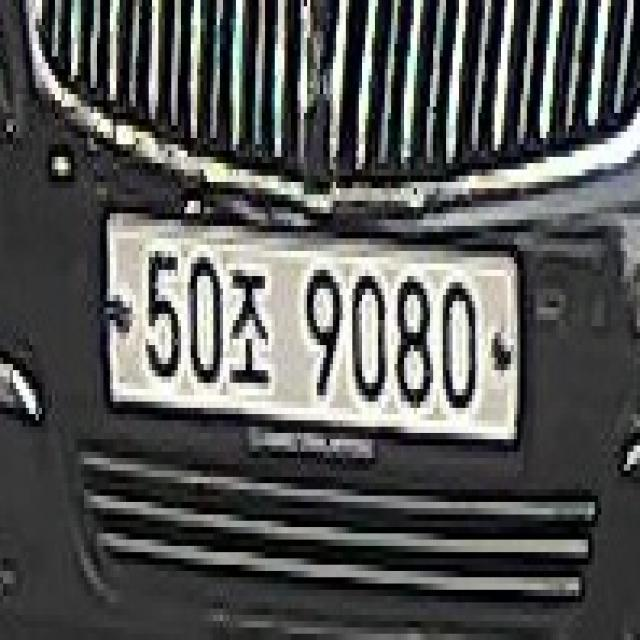0: (441, 270, 481, 420), (188, 248, 225, 394), (349, 273, 386, 405)
5: (143, 239, 183, 385)
8: (394, 267, 429, 418)
9: (300, 260, 346, 406)
jo: (230, 257, 278, 402)
license_plate: (96, 212, 528, 466)
